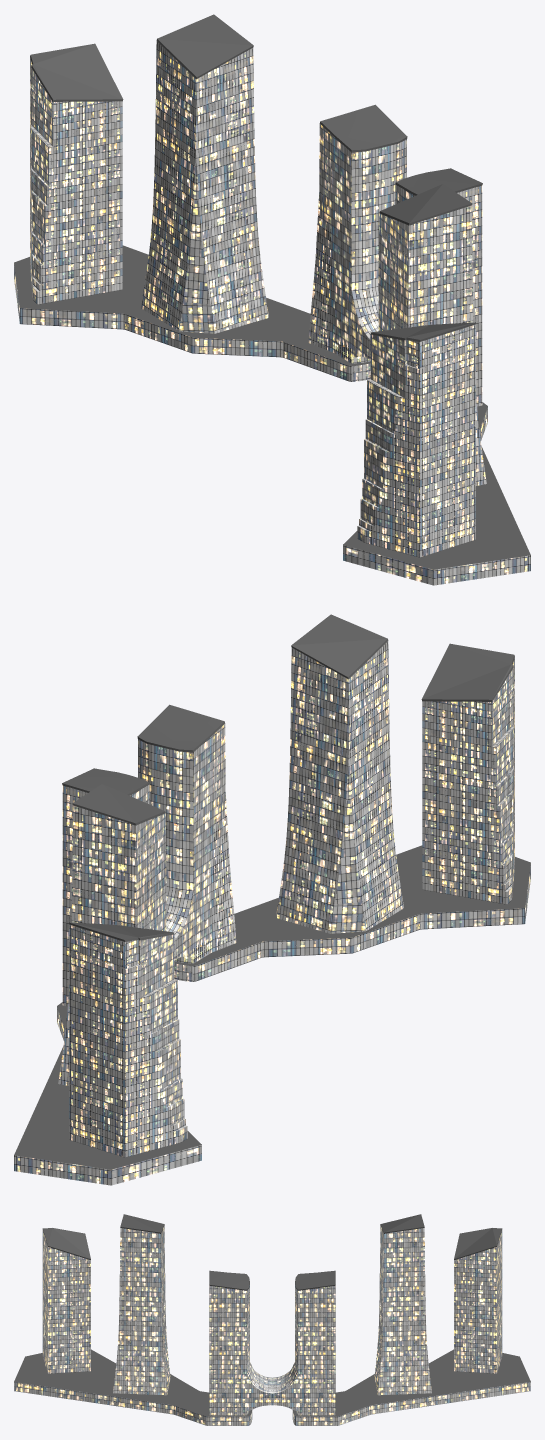
The model's file is Khabarovsk_city.fbx.
3 views of the same model, one above another, from view 1: azimuth 30°, elevation 25°; view 2: azimuth 150°, elevation 25°; view 3: azimuth 270°, elevation 25° (orthographic). The views are drawn at different scales.
Visible parts, largest first — view 1: Building2.001, Building3, Building3.001, Building1, Building2, Roof.002, Roof2.001, Building4.001, Roof, Roof2, Building4, Building1.001; view 2: Building2, Building3.001, Building3, Building1.001, Building2.001, Roof, Roof2, Building4, Roof.002, Roof2.001, Building4.001, Building1; view 3: Building2, Building2.001, Building1, Building1.001, Building3, Building3.001, Roof2, Roof2.001, Building4, Building4.001, Roof, Roof.002.
Part boxes in pixels (x1,y1,x2,y2): Building2.001: (141, 41, 268, 333); Building3: (357, 324, 475, 557); Building3.001: (30, 57, 122, 304); Building1: (308, 123, 406, 363); Building2: (378, 205, 486, 485); Roof.002: (30, 14, 482, 195); Roof2.001: (14, 245, 370, 365); Building4.001: (14, 264, 370, 381); Roof: (320, 104, 475, 341); Roof2: (343, 402, 530, 569); Building4: (343, 407, 530, 585); Building1.001: (395, 184, 482, 406); Building2: (276, 641, 403, 933); Building3.001: (69, 924, 187, 1157); Building3: (422, 657, 514, 904); Building1.001: (138, 723, 236, 963); Building2.001: (58, 805, 166, 1085); Roof: (62, 614, 514, 795); Roof2: (174, 845, 530, 965); Building4: (174, 864, 530, 981); Roof.002: (69, 704, 224, 941); Roof2.001: (14, 1002, 201, 1169); Building4.001: (14, 1007, 201, 1185); Building1: (62, 784, 149, 1006); Building2: (113, 1226, 170, 1395); Building2.001: (374, 1226, 431, 1395); Building1: (272, 1285, 335, 1415); Building1.001: (209, 1285, 272, 1415); Building3: (42, 1229, 90, 1373); Building3.001: (454, 1229, 502, 1373); Roof2: (14, 1349, 252, 1416); Roof2.001: (292, 1349, 530, 1416); Building4: (14, 1382, 252, 1425); Building4.001: (292, 1382, 530, 1425); Roof: (42, 1214, 335, 1290); Roof.002: (209, 1214, 502, 1290).
Bounding box in the file's own units: 16149 × 18082 × 48892.
5 materials, 4 textured.
